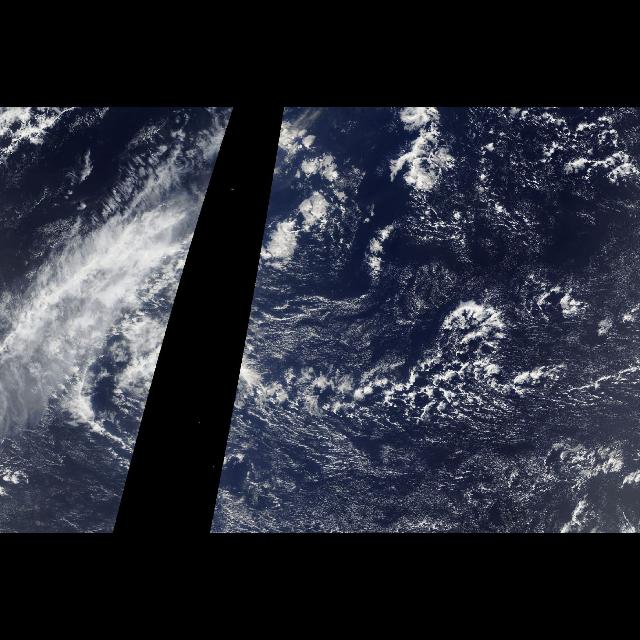Fish: (227, 276, 637, 494), (92, 288, 180, 428)
Flower: (254, 110, 356, 282)
Gravel: (281, 112, 633, 276)
